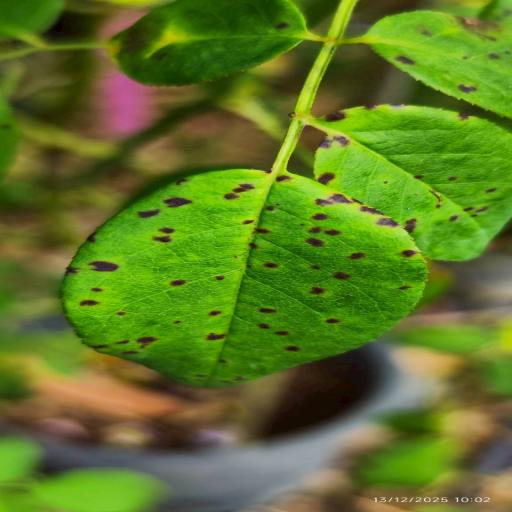black_spot: (63, 169, 426, 387), (311, 105, 511, 260), (110, 0, 313, 86), (359, 11, 511, 117)
